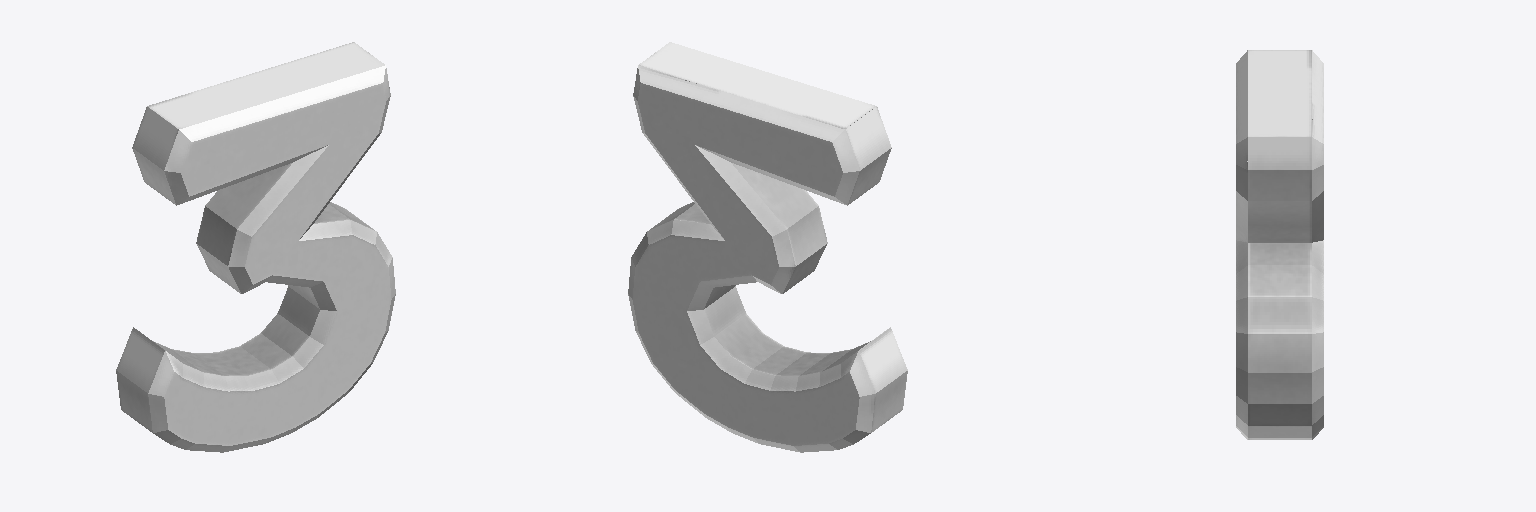
The picture shows the model from 3 angles: view 1: azimuth 30°, elevation 25°; view 2: azimuth 150°, elevation 25°; view 3: azimuth 270°, elevation 25°; orthographic projection.
Parts seen in each view (by area): view 1: Number_3; view 2: Number_3; view 3: Number_3.
Boxes of the visible parts, <box> form: Number_3: <box>116,42,395,452</box>; Number_3: <box>628,42,907,452</box>; Number_3: <box>1236,50,1323,439</box>.
Size of the model in its own units: 19.36 by 26.07 by 5.91.
Materials: 1 (1 with a texture image).